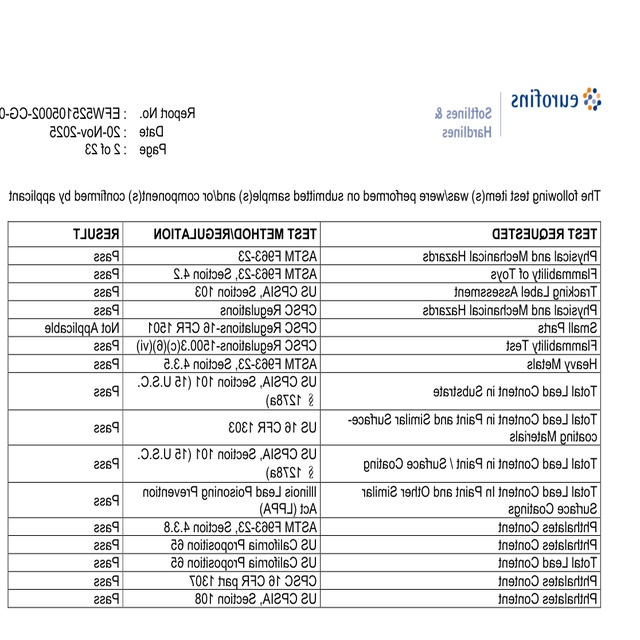eurofins: (507, 83, 608, 119)
